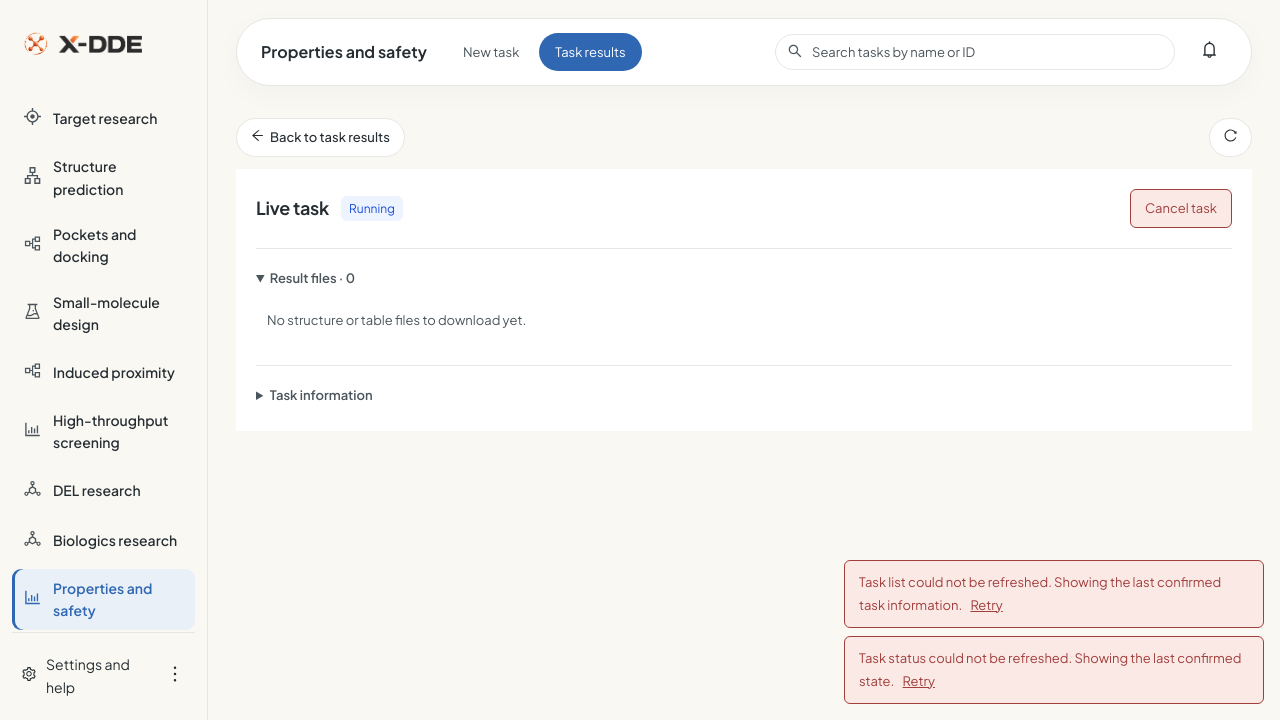
Scenario: labels last-confirmed disconnected status and real recovery in en
Expected: the message "Task status could not be refreshed. Showing the last confirmed state. Retry" is shown, [844,636,1264,704]
Expected: the text with class "status" reads "Running", [349,201,395,216]
Click the 2nd button "Retry": (919, 681) [897,669,941,693]
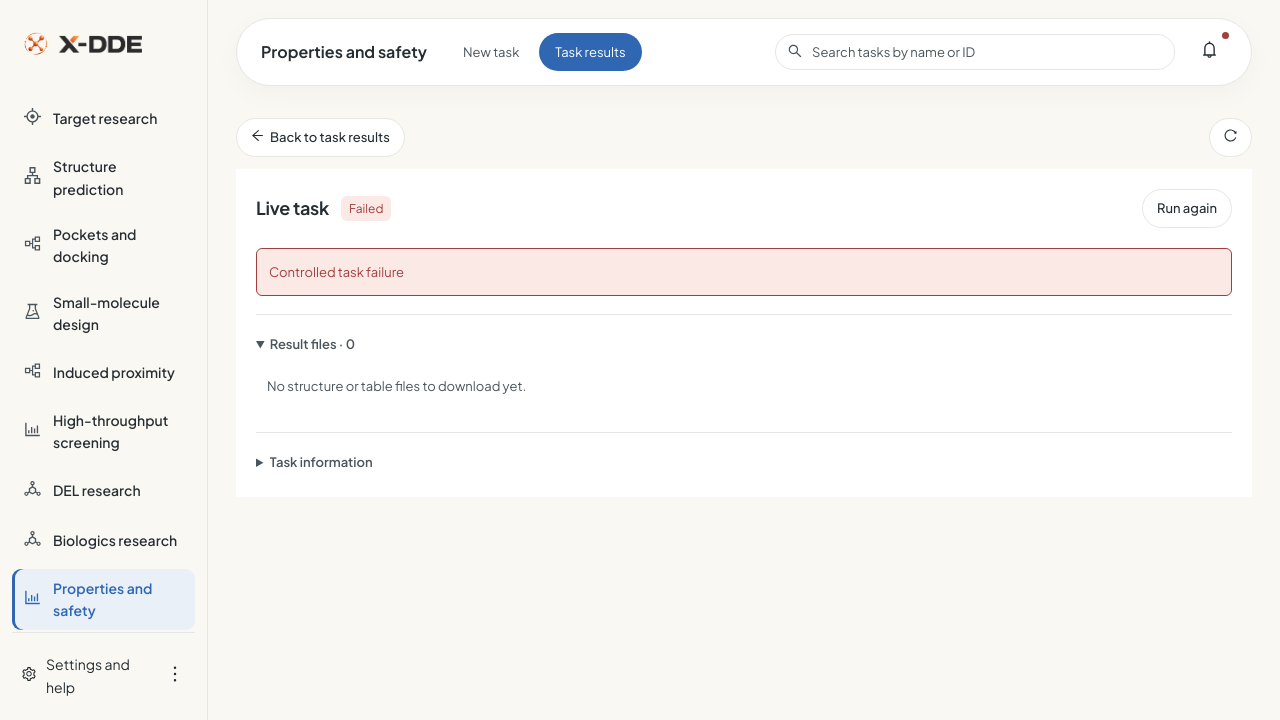
Result: the text with class "status" reads "Failed" at [349,201,384,216]
